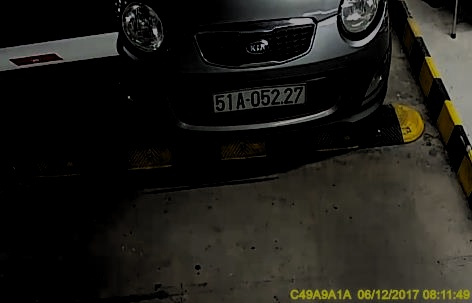plate: (212, 83, 308, 115)
